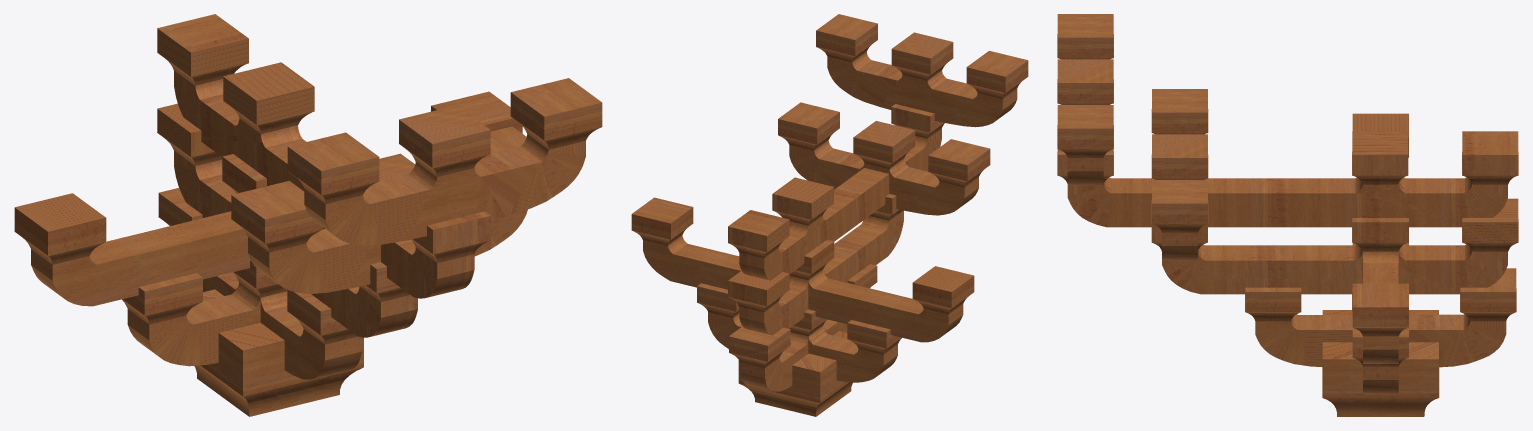
The picture shows the model from 3 angles, left to right: view 1: azimuth 30°, elevation 25°; view 2: azimuth 150°, elevation 25°; view 3: azimuth 270°, elevation 25°; orthographic projection. The views are drawn at different scales.
Visible parts, largest first — view 1: R2L3; view 2: R2L3; view 3: R2L3.
Boxes of the visible parts, x1=… form: R2L3: x1=14, y1=14, x2=602, y2=416; R2L3: x1=631, y1=14, x2=1028, y2=416; R2L3: x1=1057, y1=14, x2=1518, y2=416.
Size of the model in its own units: 38.61 by 30.4 by 38.84.
1 material, 1 textured.
